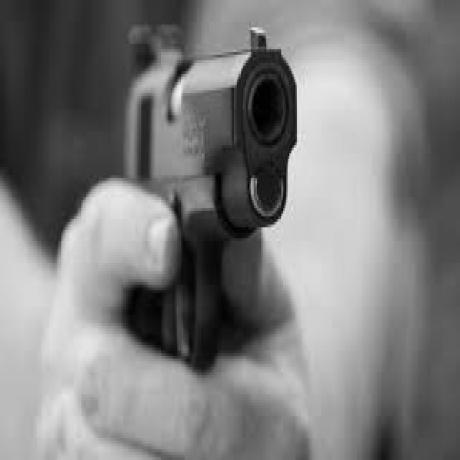Guns: (120, 15, 302, 378)
